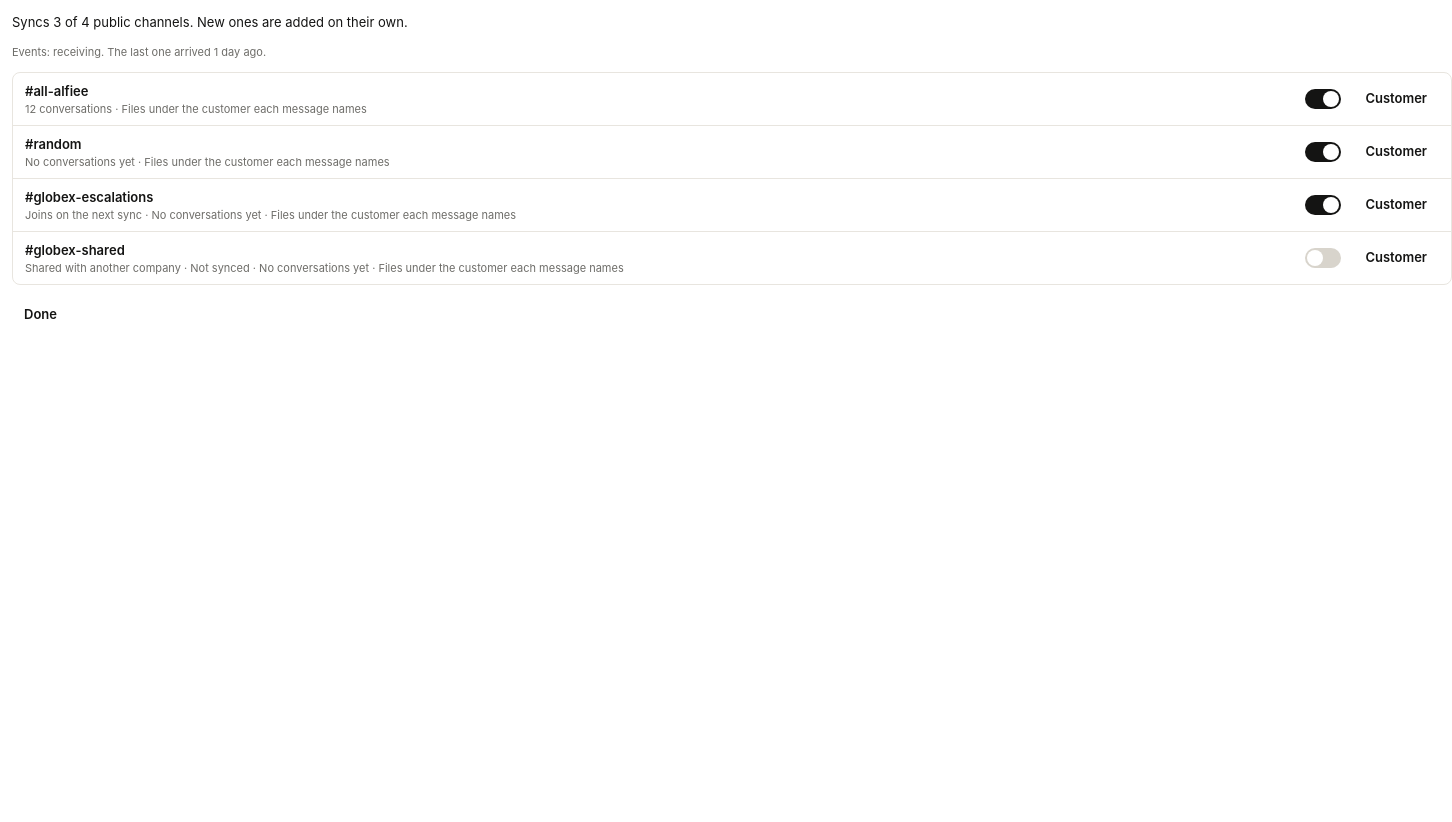
Test: SlackChannelsPanel (frontend Decisions 2 to 4) › a busy channel's customer save sends nothing and says so inside the form
Expected: the text "#random" is shown, [25,136,82,152]
Click the switch named "Sync #random".
click(1323, 152)  # box [1301,134,1345,170]
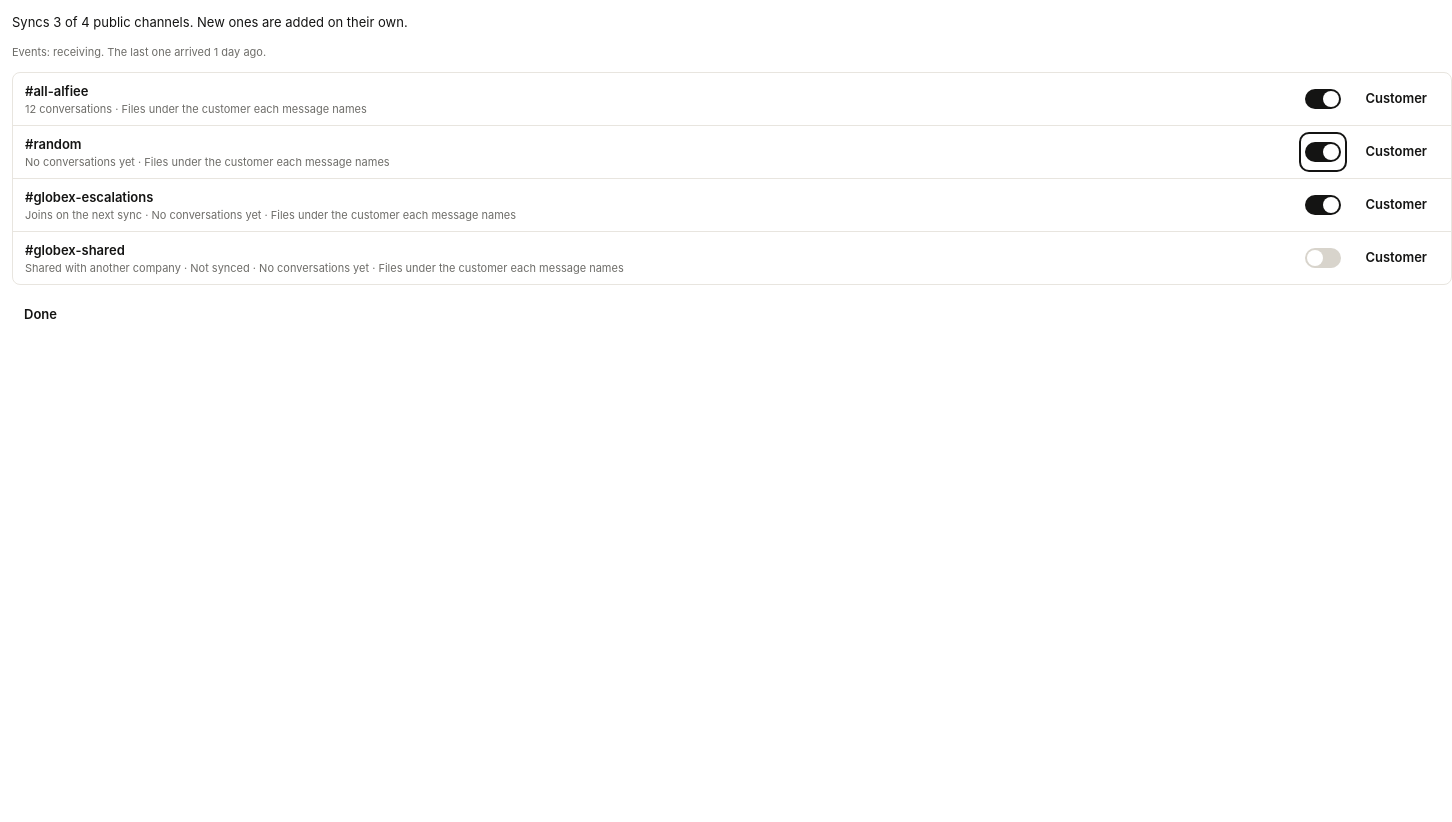
Click the button with aria-label "Choose the customer of #random".
click(1396, 152)  # box [1353,134,1439,170]
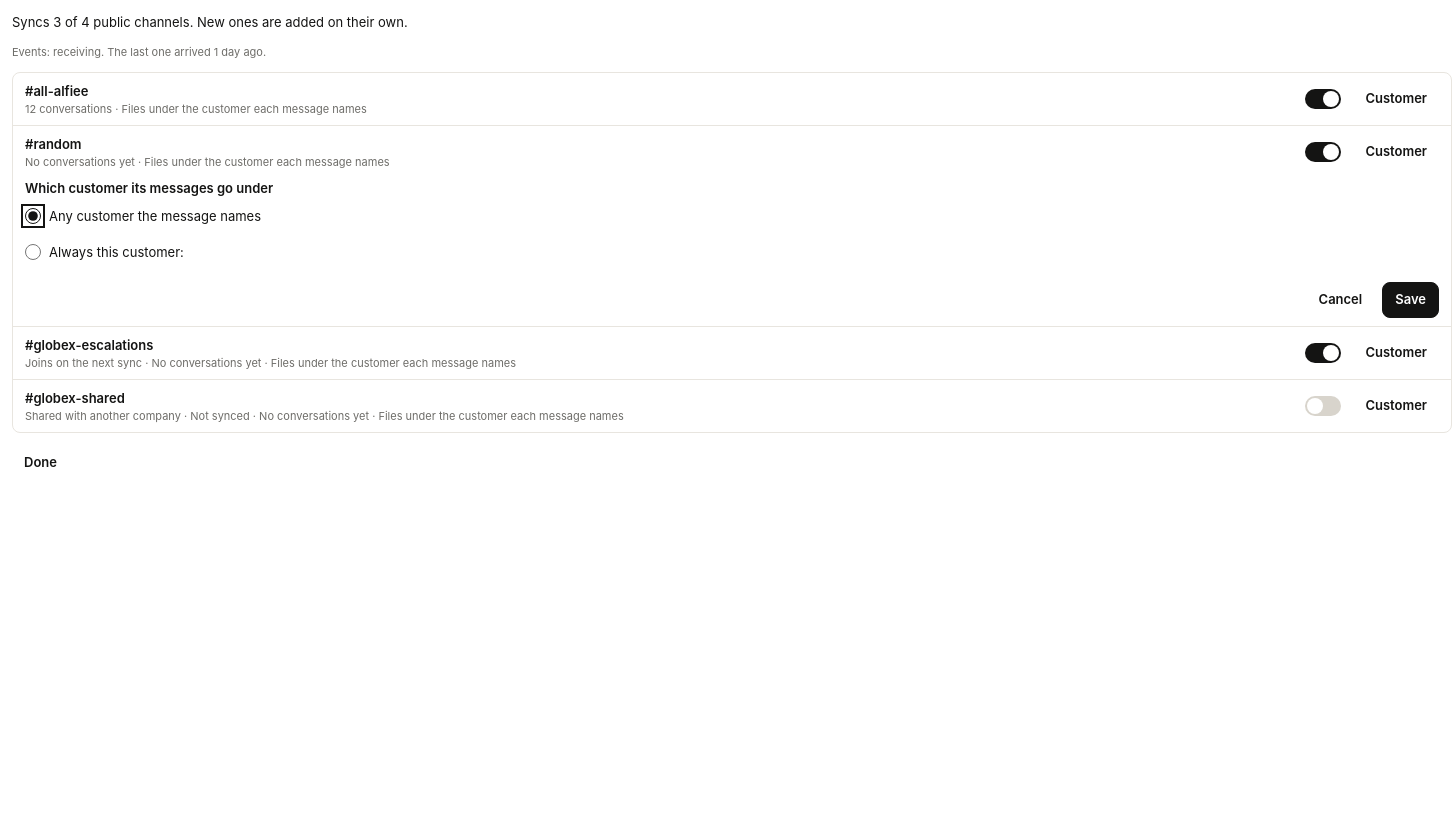
Click the radio button labelled "Always this customer:".
click(33, 252)  # box [25,244,41,260]
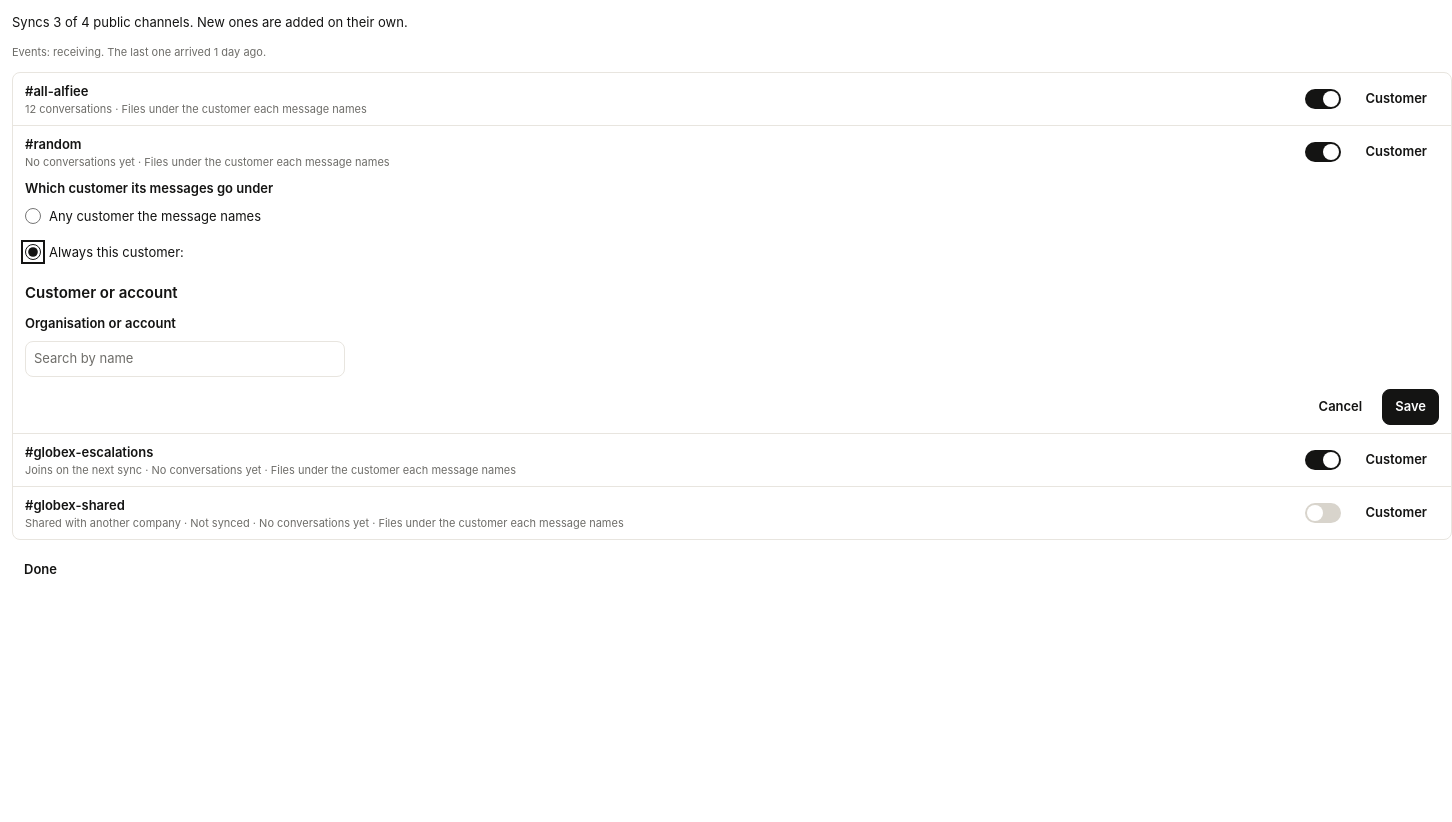
Type "Glo" into the search field labelled "Organisation or account".
click(185, 358); type("Glo")  # box [25,340,345,376]
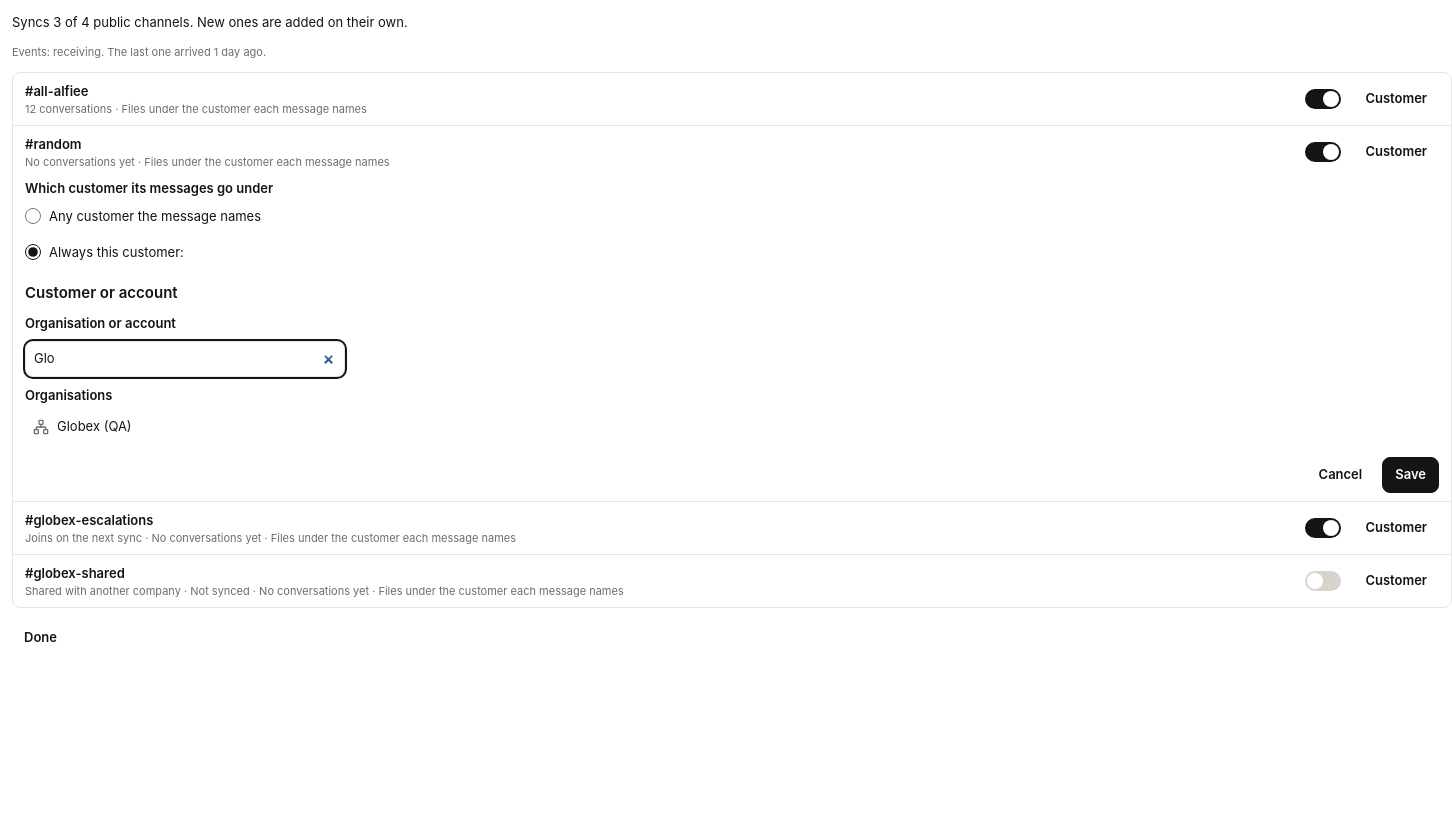
Click the button "Globex (QA)".
click(94, 426)  # box [25,408,1439,444]
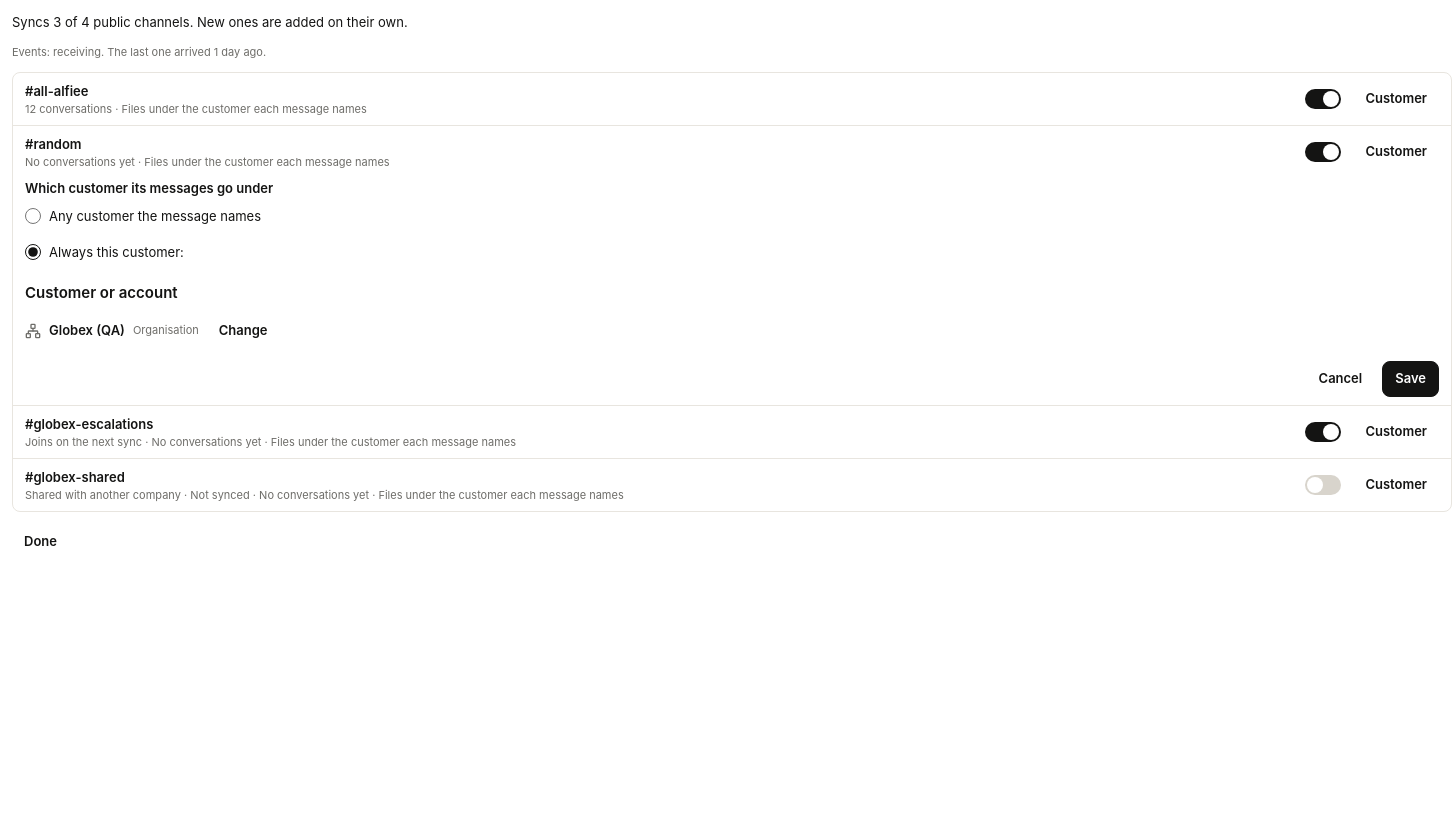
Click the button "Save".
click(1411, 378)  # box [1382,360,1439,396]
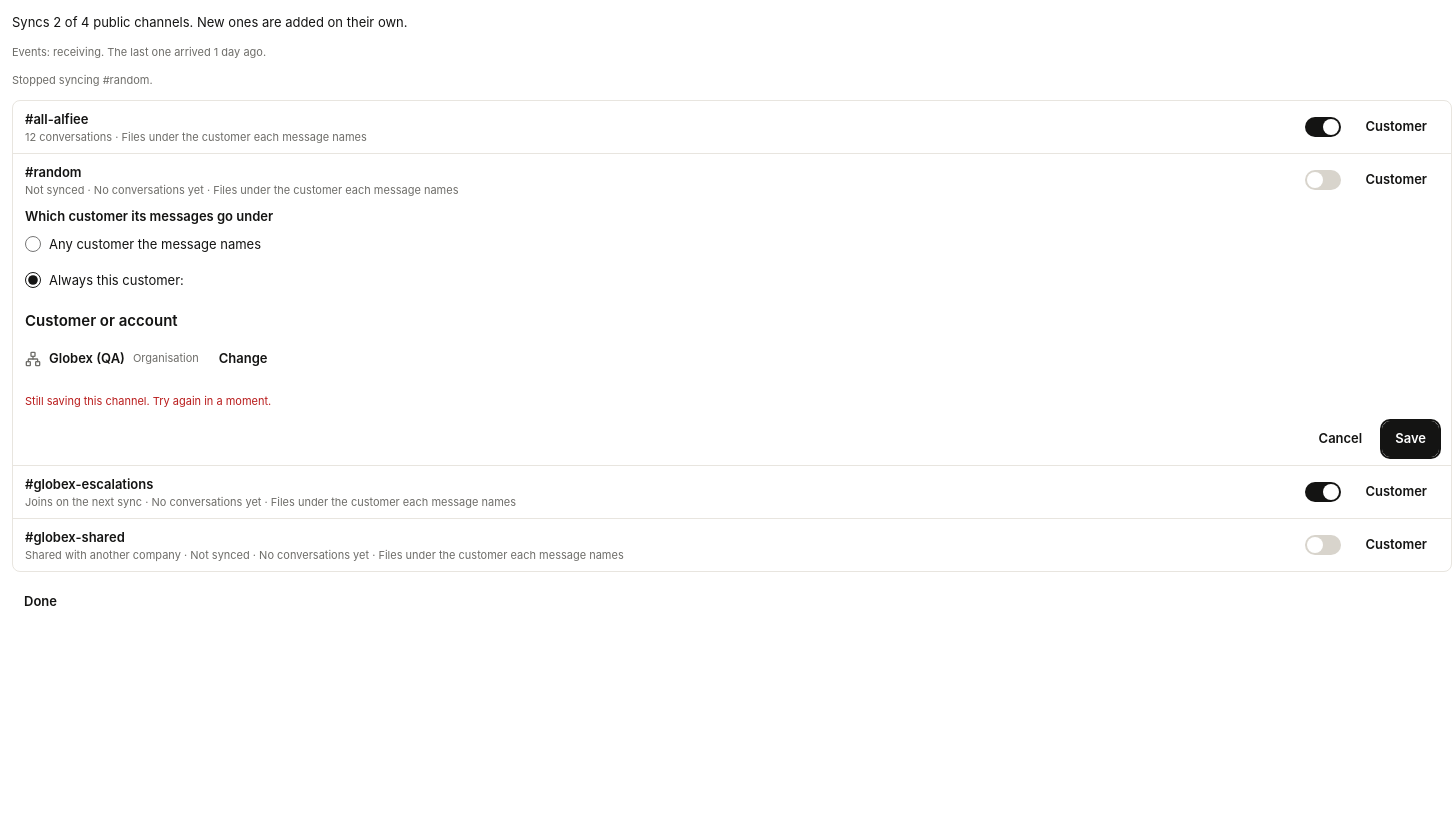
Now the text "Still saving this channel. Try again in a moment." is shown, box [25,394,271,408]
